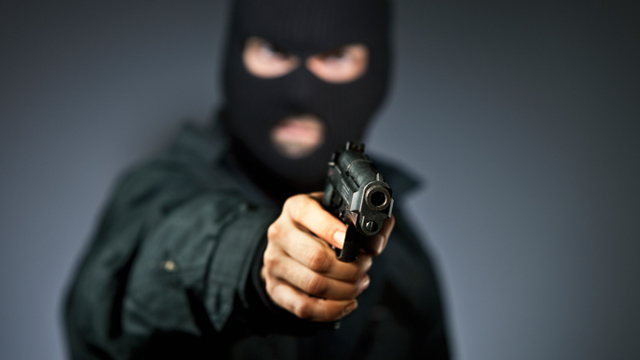gun: (319, 138, 396, 268)
